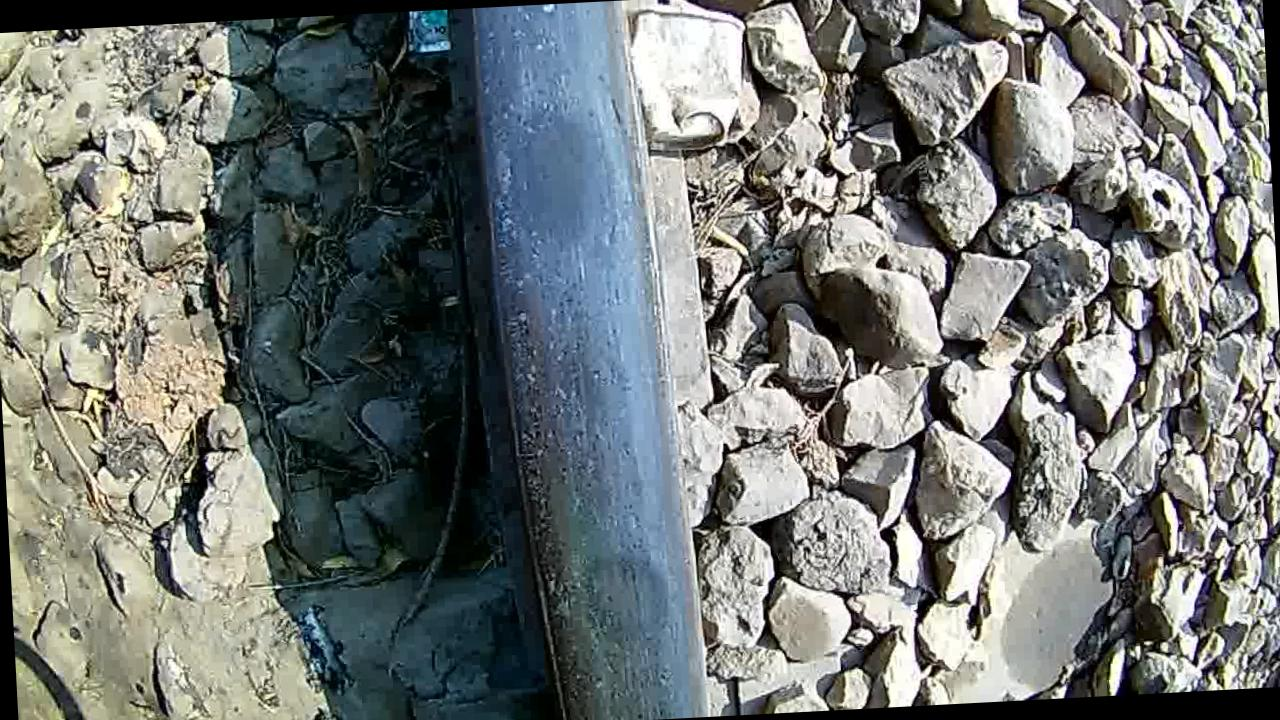bolt_missing: (465, 49, 678, 720)
